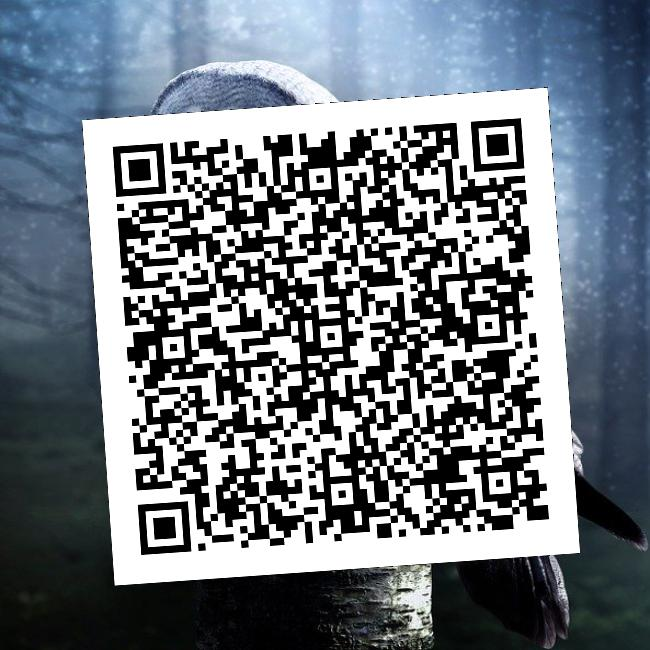qr_code: (82, 88, 579, 584)
